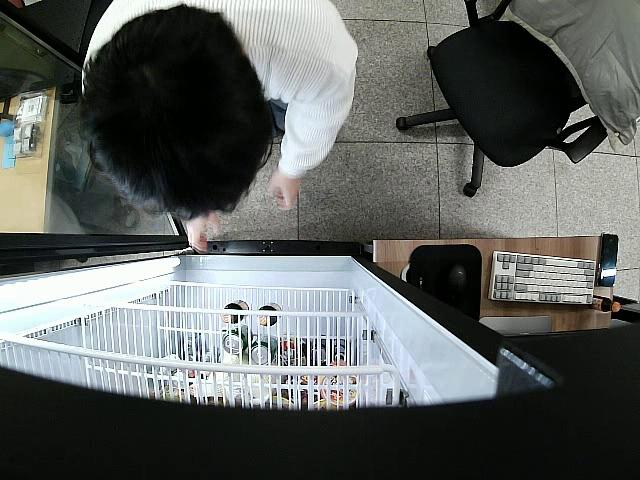00_hand: (266, 169, 301, 211), (186, 215, 221, 254)
